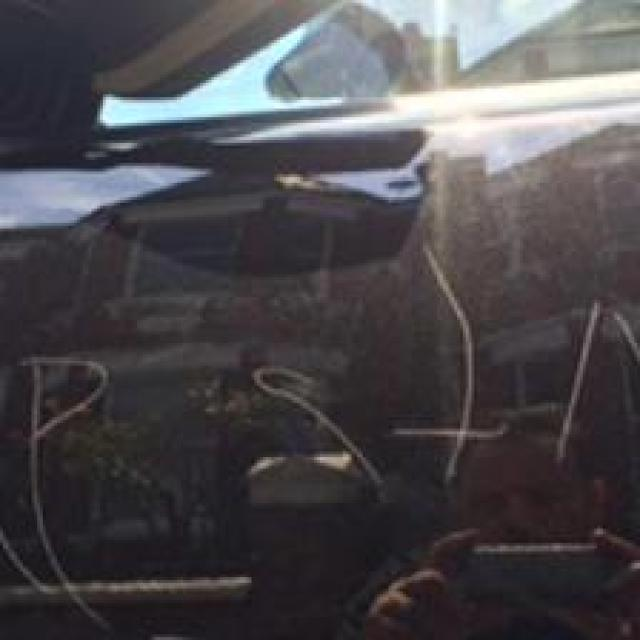door_scratch_severe: (391, 243, 503, 480), (254, 371, 380, 494), (557, 300, 637, 460), (36, 507, 66, 583), (31, 420, 36, 507)
